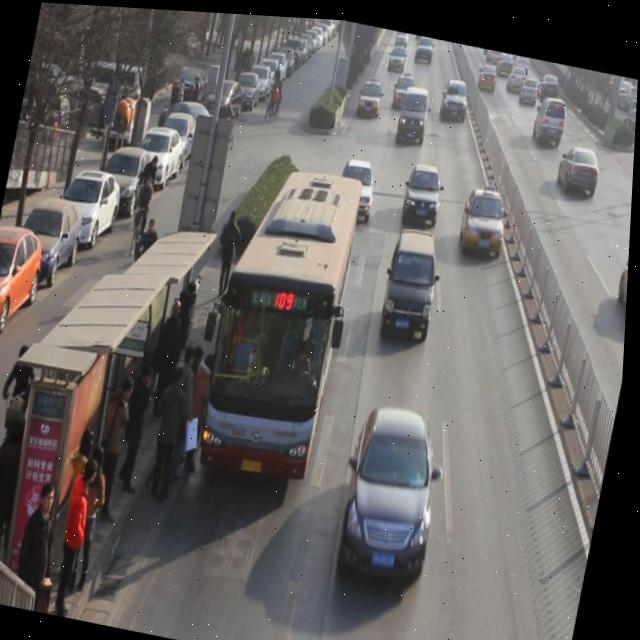car: (338, 395, 458, 583), (458, 175, 515, 256), (400, 157, 449, 224), (335, 152, 381, 219), (556, 135, 605, 193), (439, 73, 473, 118), (357, 72, 386, 114), (391, 65, 418, 107), (537, 64, 562, 94), (477, 54, 500, 86), (506, 57, 529, 87), (519, 69, 541, 99), (388, 39, 409, 69)
truck: (379, 220, 449, 337), (397, 78, 434, 141), (531, 88, 570, 141)
van: (195, 157, 368, 477)
